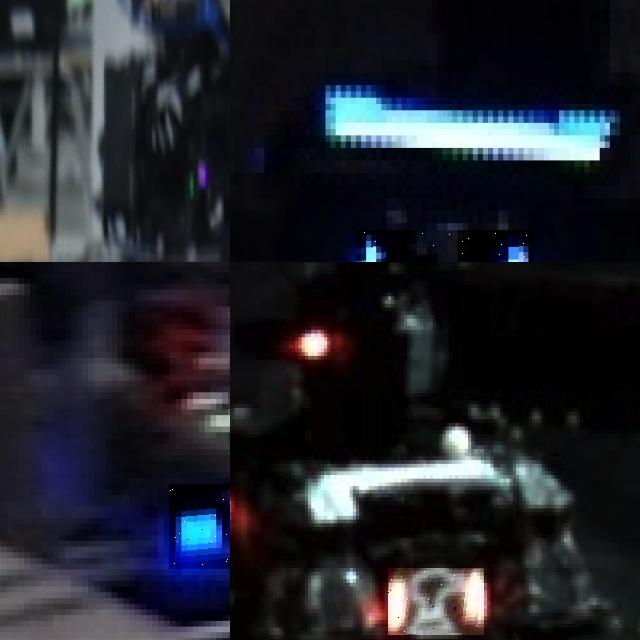B1: (356, 229, 534, 262)
B2: (169, 483, 230, 569)
Rs: (388, 568, 484, 635)
